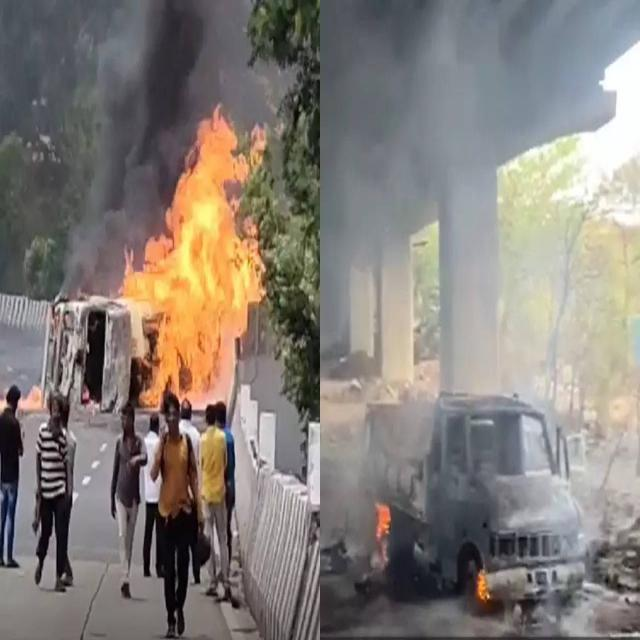accident: (365, 393, 585, 603), (41, 296, 175, 412)
